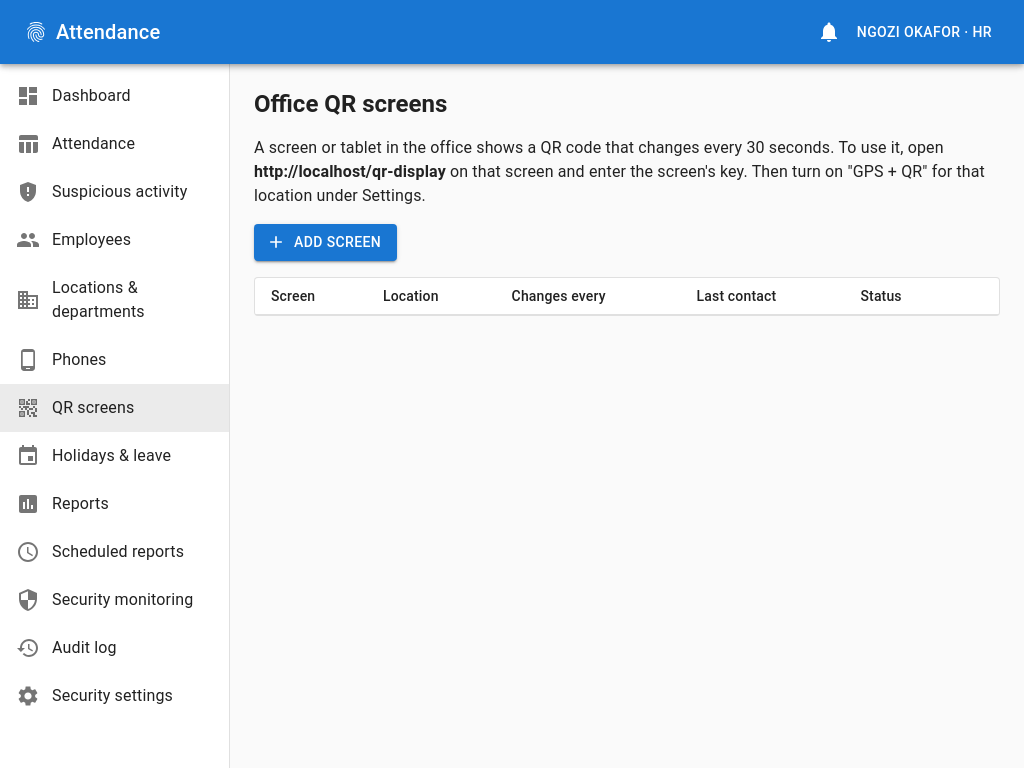
it: QR screens › adds a screen and shows its key once
Click the button "Add screen" at (326,242), box [254,224,397,260]
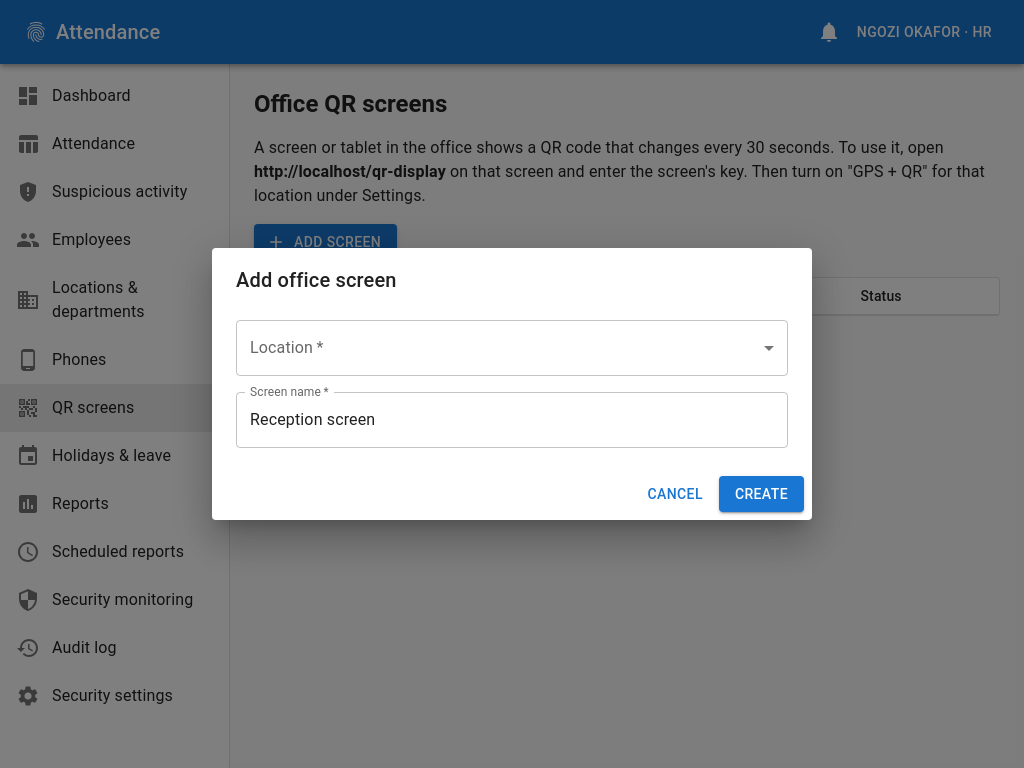
Click the dropdown named "Location" at (512,348), box [236,320,788,376]
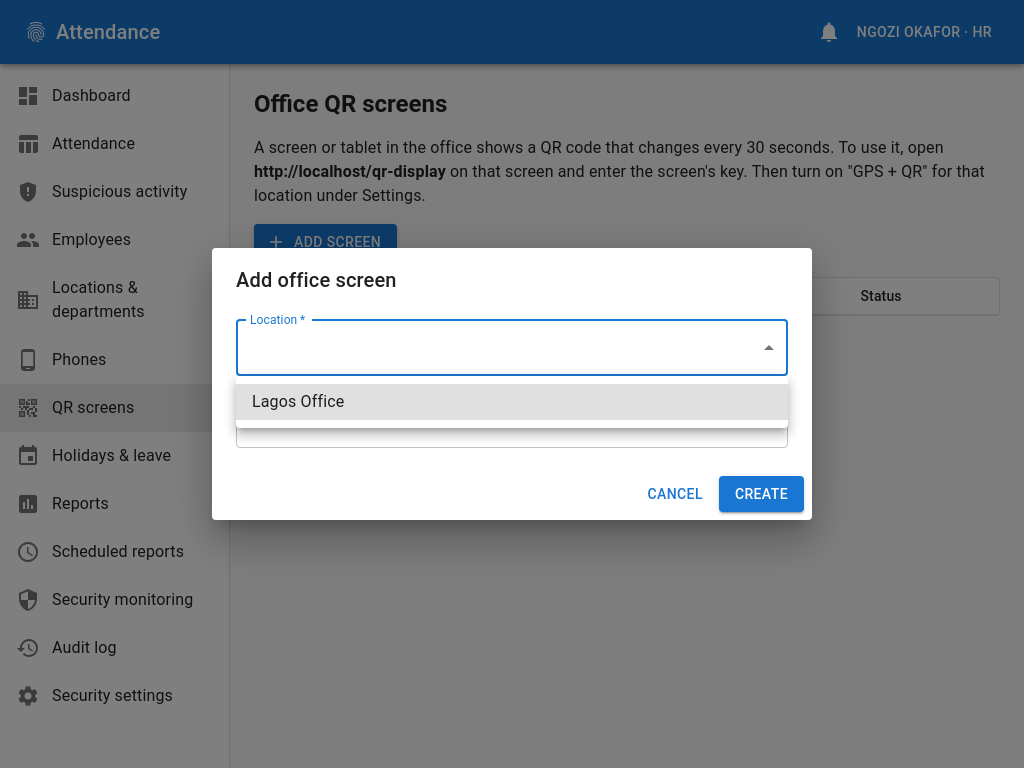
Click the option "Lagos Office" at (298,402), box [236,384,788,420]
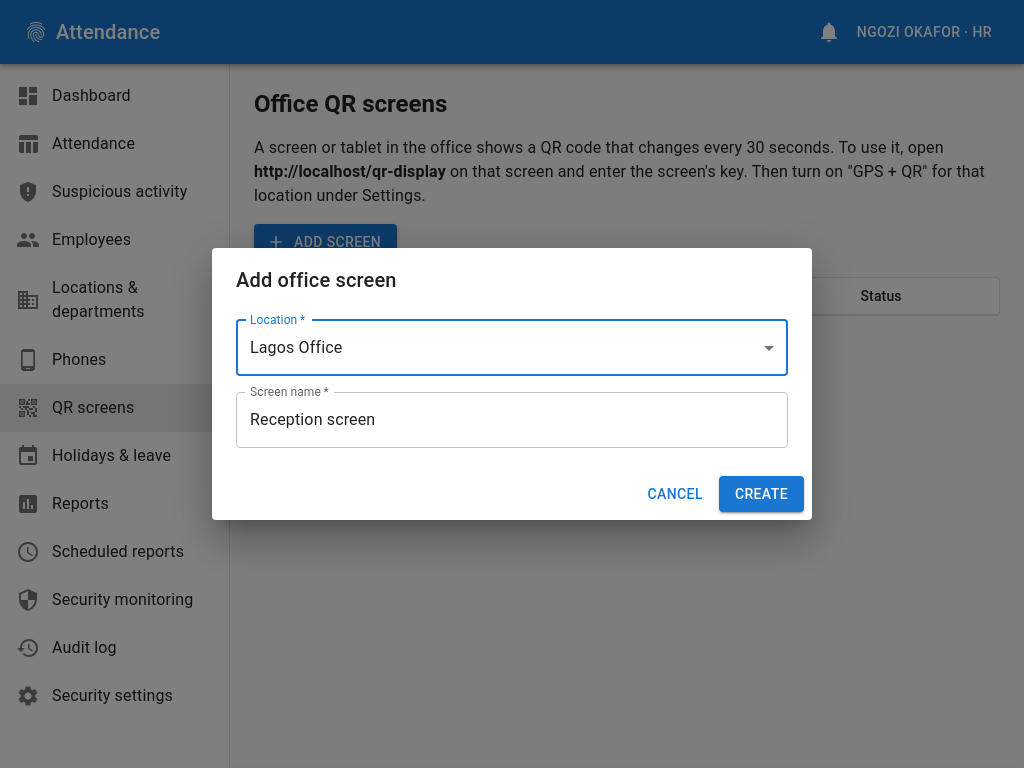
Replace the text in the field labelled "Screen name *" with "Reception" at (512,420), box [236,392,788,448]
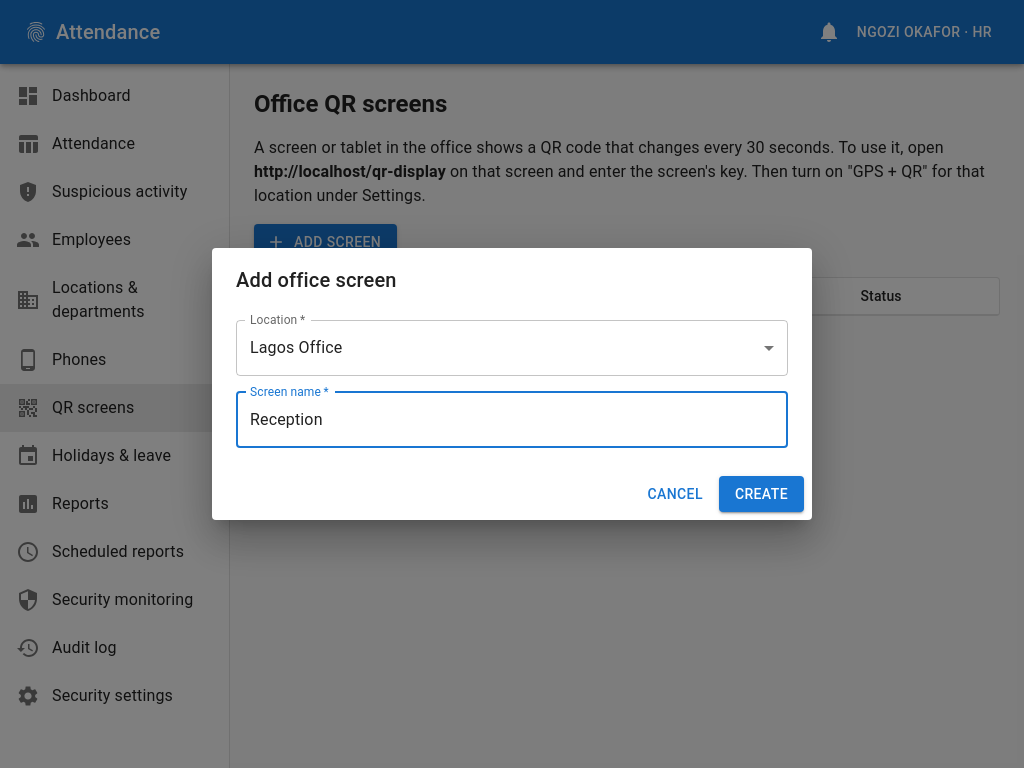
Click the button "Create" at (761,494), box [719,476,804,512]
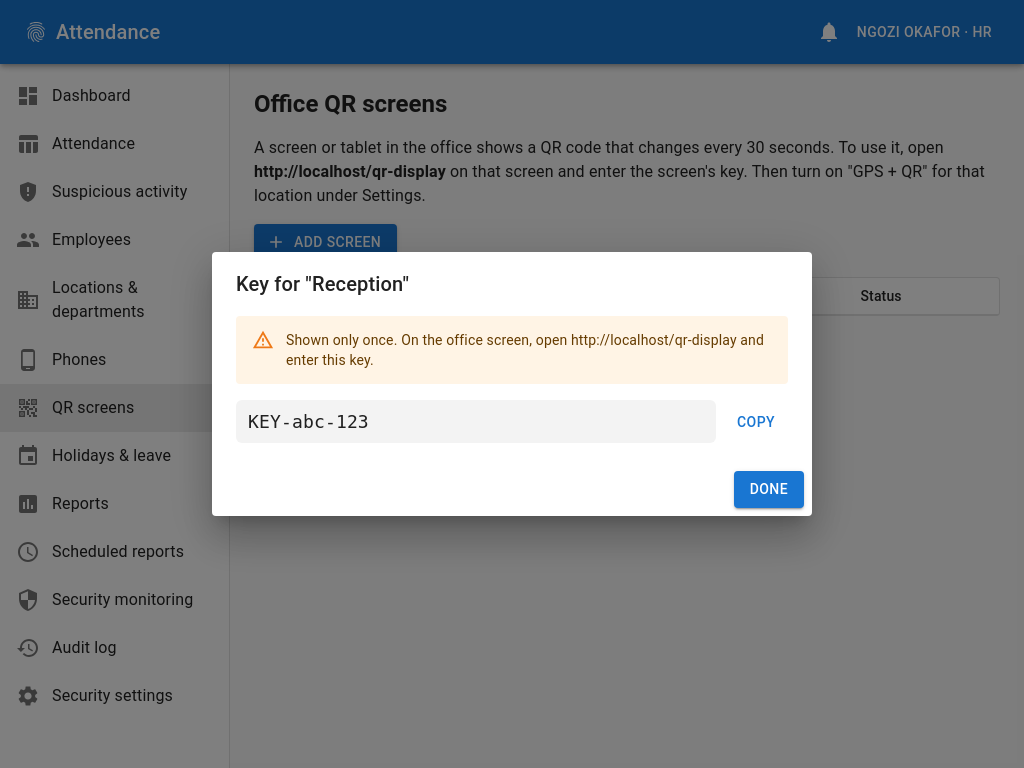
Expected: the text named "display key" reads "KEY-abc-123", [248,411,369,432]
